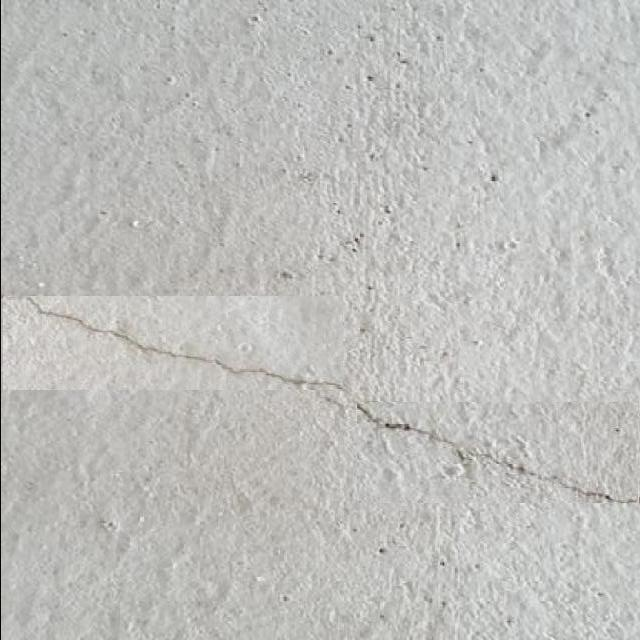crack: (24, 294, 639, 509), (38, 305, 365, 410), (6, 287, 634, 338), (0, 229, 379, 298), (33, 302, 219, 362)
